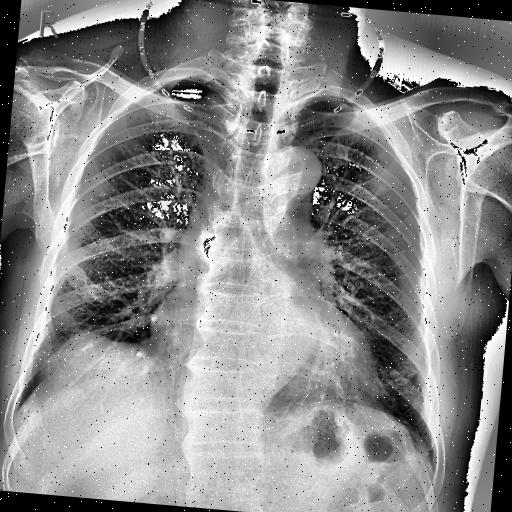0- Aortic enlargement: (262, 146, 326, 202), (262, 141, 324, 198), (268, 145, 322, 209)
3- Cardiomegaly: (142, 296, 382, 422), (144, 290, 388, 408)
9- Other lesion: (43, 332, 148, 385), (37, 328, 121, 390), (38, 323, 111, 391)
